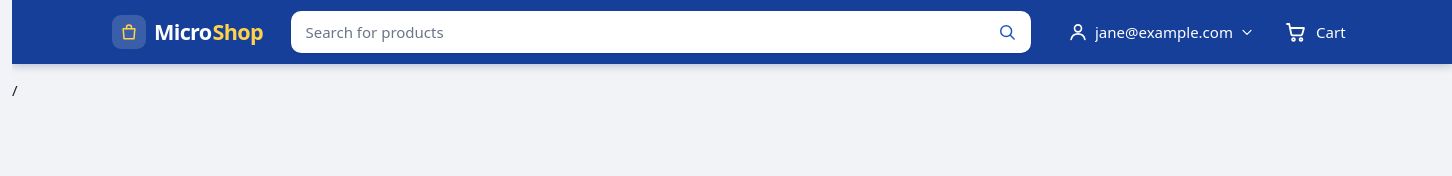
SiteHeader for a logged-in person › closes the menu when something else on the page is clicked
The width and height of the screenshot is (1452, 176).
Step 1. Click the button "jane@example.com" → (1161, 32), box [1059,14,1263,50]
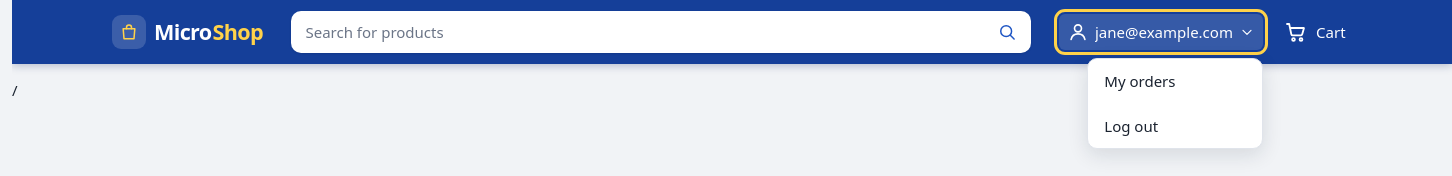
Step 2. Click the text with test id "where" → (15, 90), box [12,80,18,100]
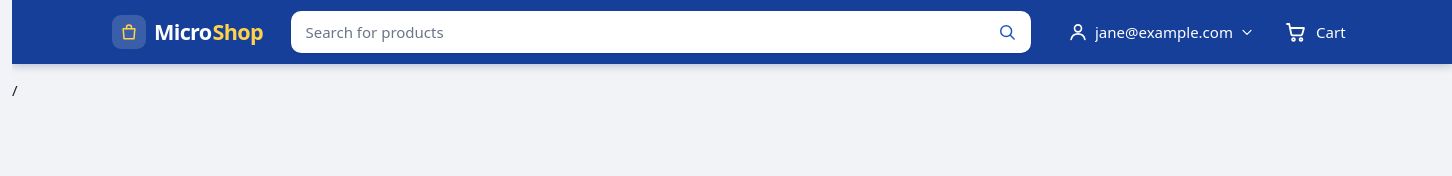
expect the button "jane@example.com" is collapsed: met, box [1059,14,1263,50]
